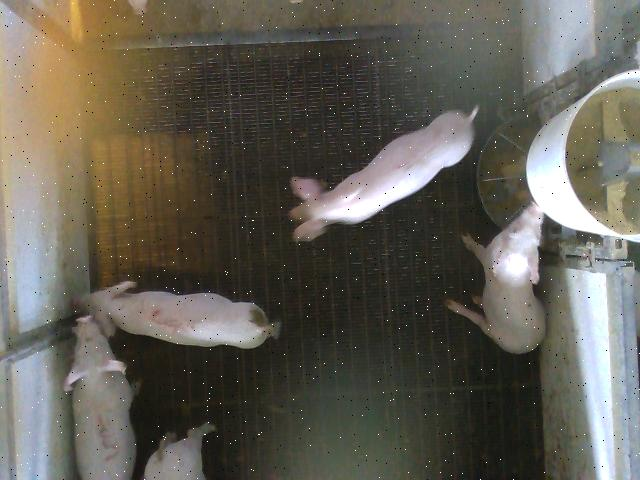pig-3: (64, 316, 136, 480)
pig-5: (82, 282, 280, 349)
